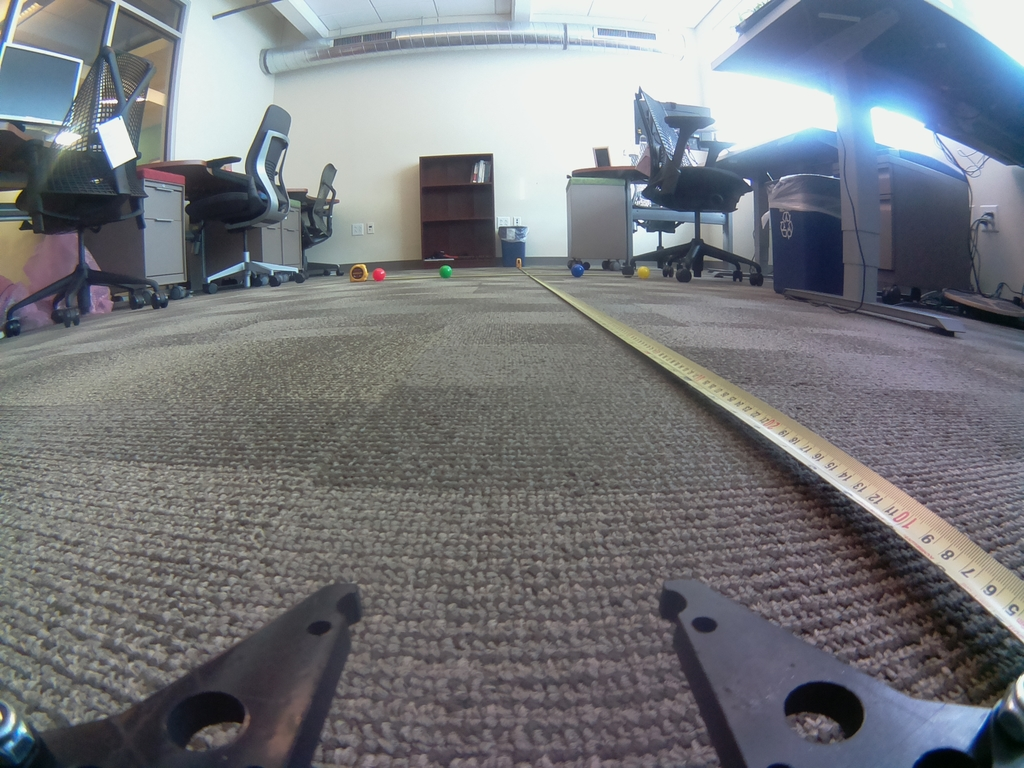ball: (437, 263, 453, 278)
